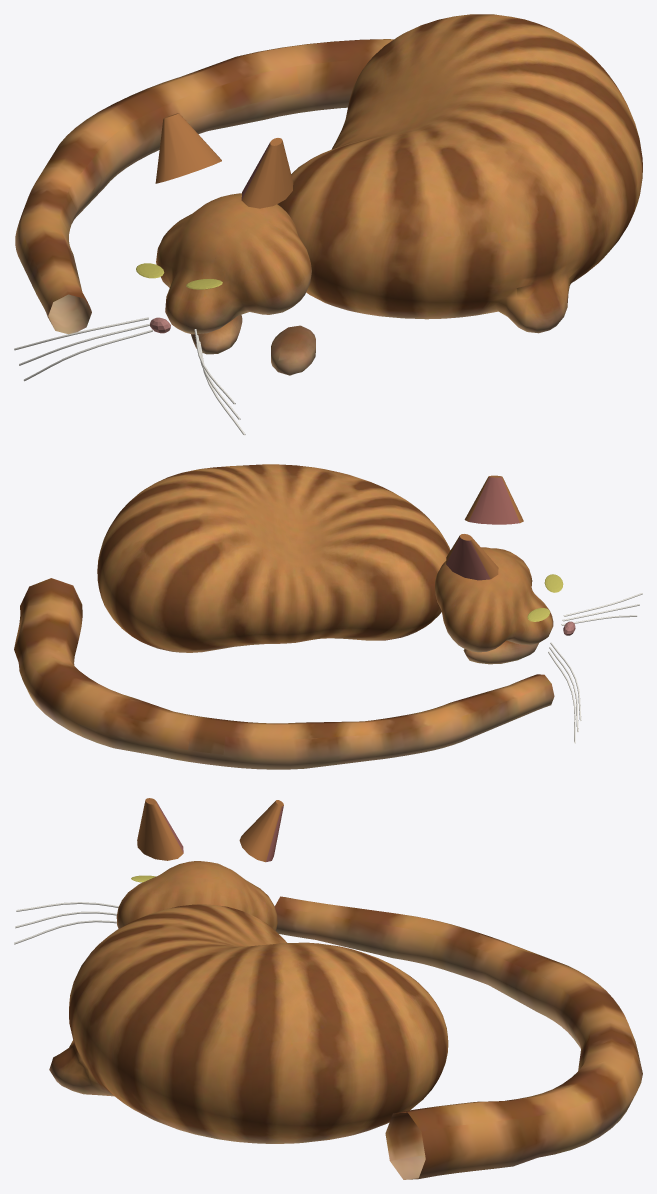
The model's file is barry.glb.
3 views of the same model, one above another, from view 1: azimuth 30°, elevation 25°; view 2: azimuth 150°, elevation 25°; view 3: azimuth 270°, elevation 25° (orthographic). The views are drawn at different scales.
Visible parts, largest first — view 1: Barry_Body, Barry_Tail, Barry_Head, Barry_EarR, Barry_EarL; view 2: Barry_Body, Barry_Tail, Barry_Head, Barry_EarL, Barry_EarR; view 3: Barry_Body, Barry_Tail, Barry_Head, Barry_EarL, Barry_EarR.
Part boxes in pixels (x1=…): Barry_Body: x1=191, y1=14, x2=642, y2=375; Barry_Tail: x1=15, y1=39, x2=393, y2=334; Barry_Head: x1=156, y1=193, x2=311, y2=334; Barry_EarR: x1=155, y1=113, x2=221, y2=183; Barry_EarL: x1=241, y1=138, x2=293, y2=208; Barry_Body: x1=97, y1=464, x2=538, y2=664; Barry_Tail: x1=14, y1=578, x2=554, y2=769; Barry_Head: x1=435, y1=547, x2=553, y2=652; Barry_EarL: x1=464, y1=475, x2=523, y2=524; Barry_EarR: x1=446, y1=534, x2=498, y2=580; Barry_Body: x1=49, y1=904, x2=448, y2=1143; Barry_Tail: x1=274, y1=896, x2=642, y2=1179; Barry_Head: x1=116, y1=861, x2=277, y2=930; Barry_EarL: x1=137, y1=798, x2=183, y2=860; Barry_EarR: x1=239, y1=800, x2=283, y2=862.
Size of the model in its own units: 0.4086 by 0.15 by 0.3789.
8 materials, 3 textured.
